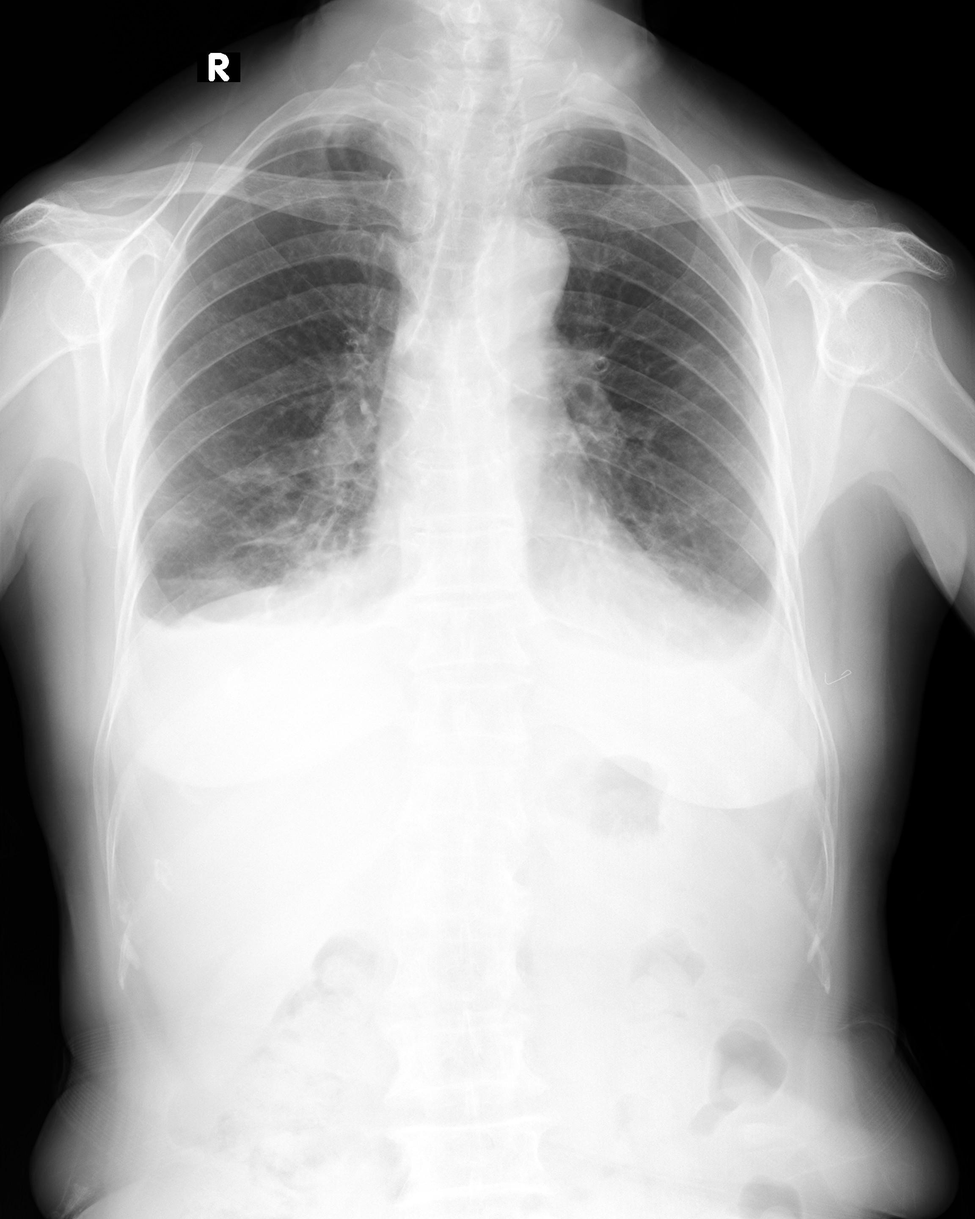Aortic enlargement: (475, 209, 570, 314)
Pleural thickening: (289, 113, 361, 134)
Pulmonary fibrosis: (211, 478, 357, 569), (331, 122, 380, 208)
